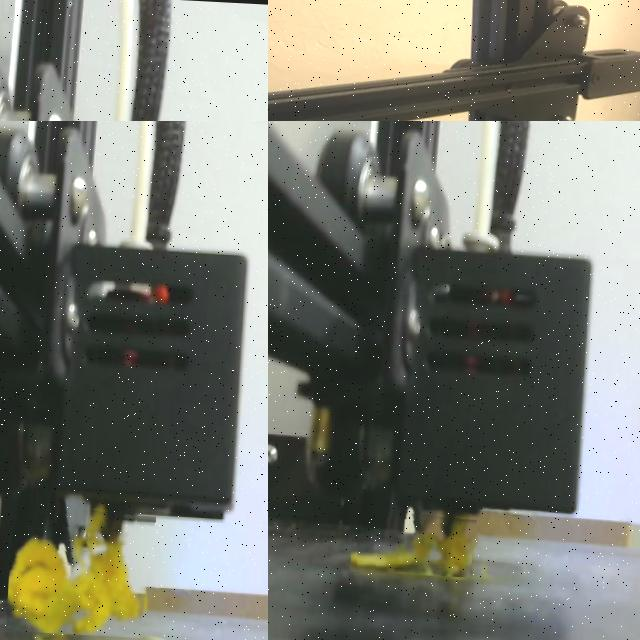spaghetti: (6, 502, 157, 639), (351, 516, 474, 577)
